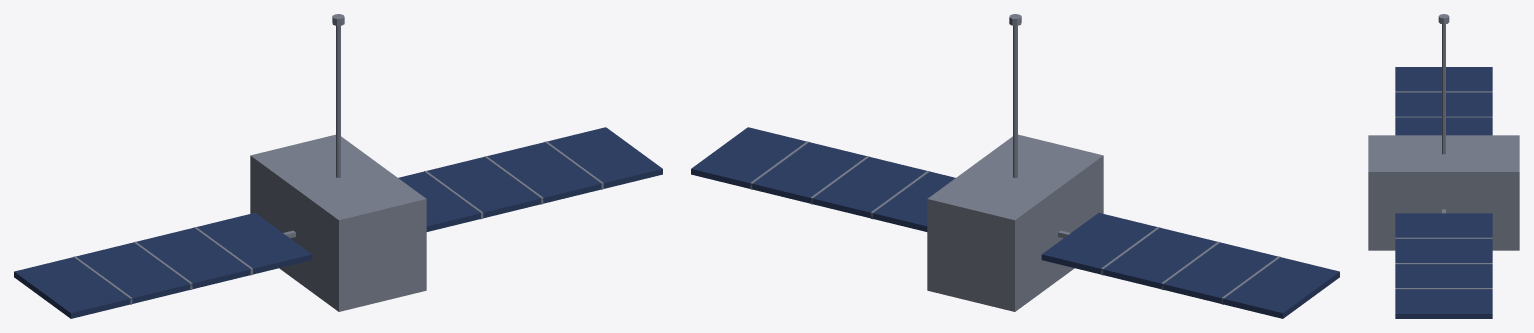
File: satellite.glb
3 renders of one model, left to right at view 1: azimuth 30°, elevation 25°; view 2: azimuth 150°, elevation 25°; view 3: azimuth 270°, elevation 25°, orthographic. The views are drawn at different scales.
Parts seen in each view (by area): view 1: satellite; view 2: satellite; view 3: satellite.
Boxes of the visible parts, <box> form: satellite: <box>14,14,662,318</box>; satellite: <box>691,14,1339,318</box>; satellite: <box>1368,14,1519,318</box>.
Size of the model in its own units: 5.4 by 2.2 by 1.4.
